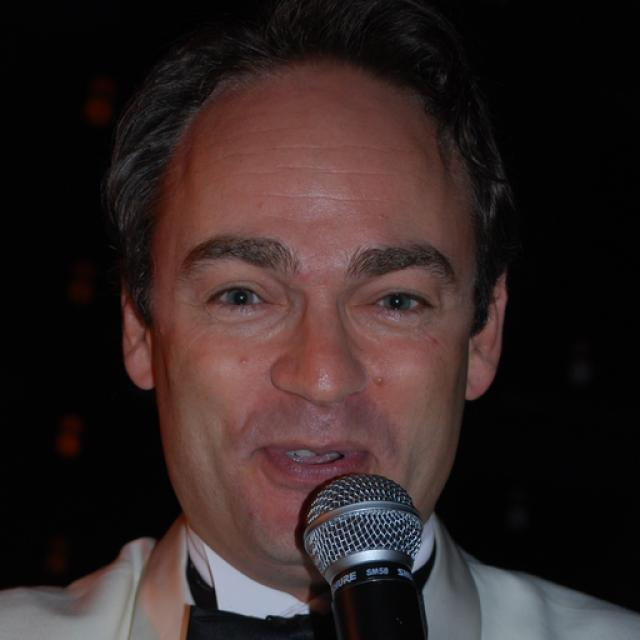Acne: (371, 370, 393, 392), (230, 351, 252, 372), (426, 331, 444, 348)
Wrinkle: (210, 139, 392, 164), (253, 190, 396, 207), (222, 164, 283, 183), (272, 160, 331, 175), (323, 167, 398, 178)
